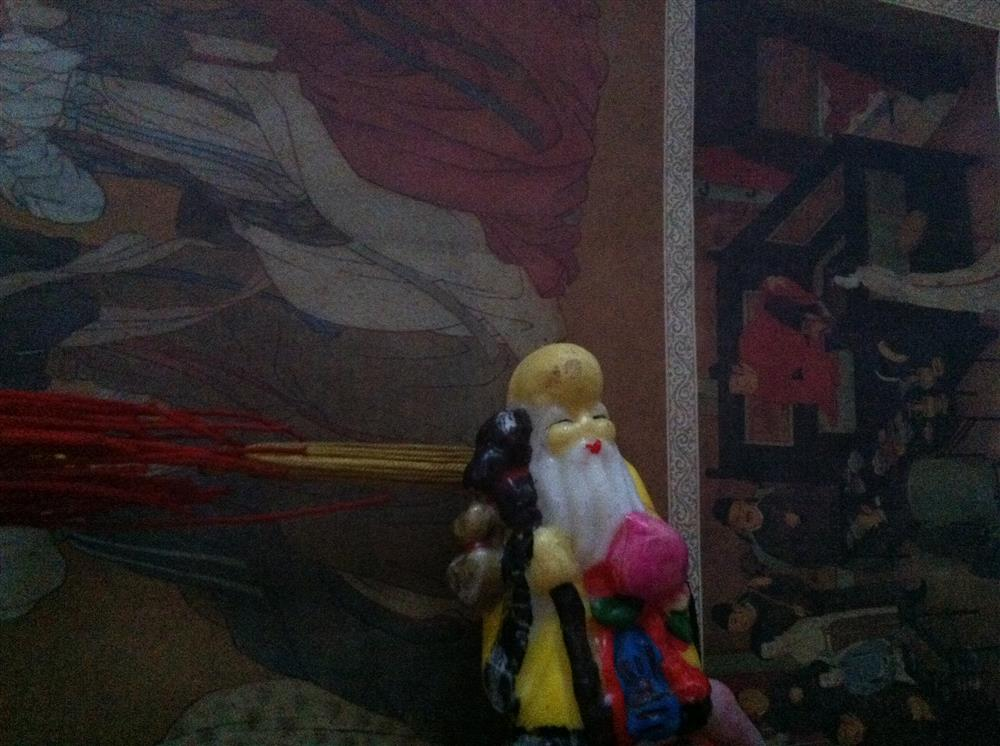oldman_candle: (442, 344, 712, 737)
